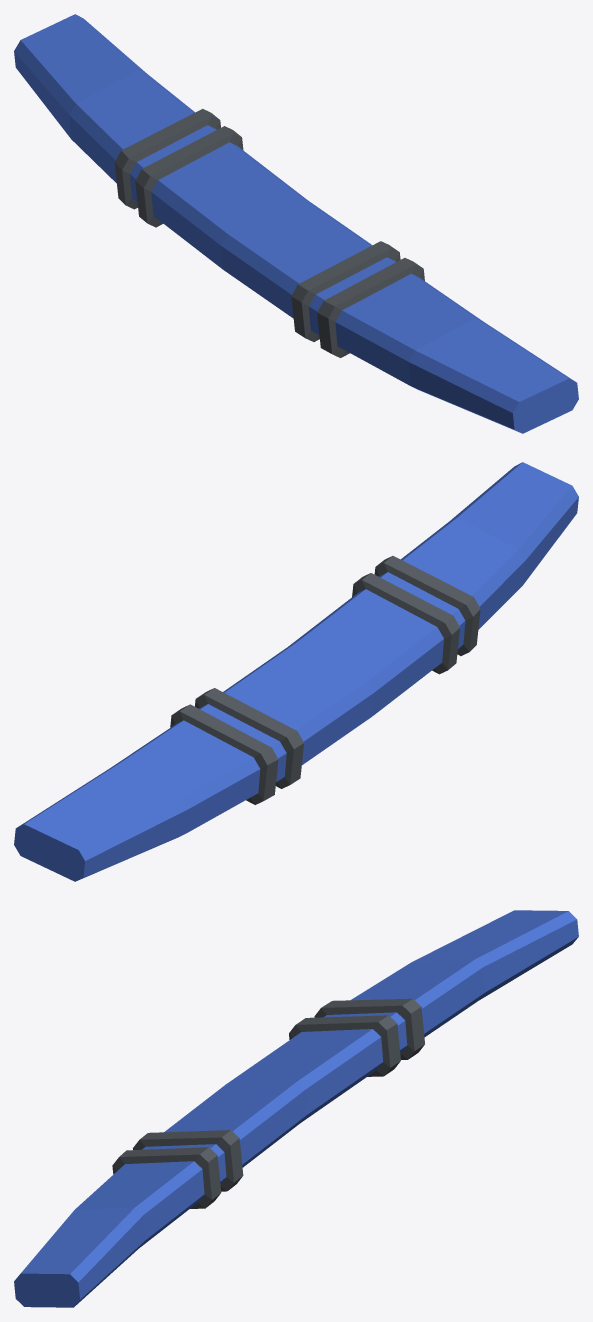
File: Mothership_02_Glider_Left_Blue.fbx
The picture shows the model from 3 angles, top to bottom: view 1: azimuth 30°, elevation 25°; view 2: azimuth 150°, elevation 25°; view 3: azimuth 330°, elevation 25°; orthographic projection.
Parts seen in each view (by area): view 1: Mothership_02_Glider_Left_Blue; view 2: Mothership_02_Glider_Left_Blue; view 3: Mothership_02_Glider_Left_Blue.
Part boxes in pixels (x1,y1,x2,y2): Mothership_02_Glider_Left_Blue: (14,14,578,433); Mothership_02_Glider_Left_Blue: (14,462,578,881); Mothership_02_Glider_Left_Blue: (14,910,578,1307).
Bounding box in the file's own units: 292 × 182 × 2166.
Materials: 1 (1 with a texture image).
